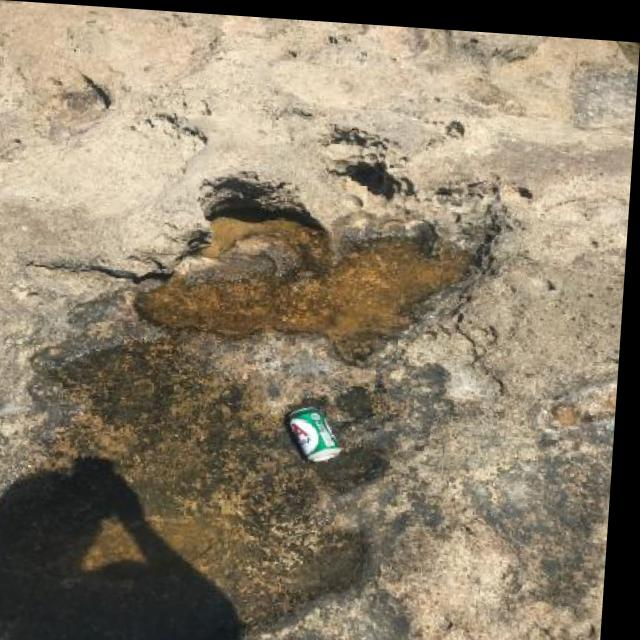metal: (175, 327, 235, 388)
